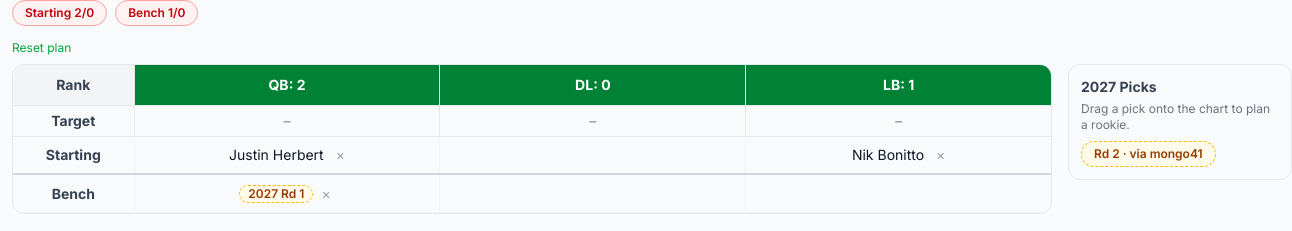
DepthChartTable › draft picks › returns a placed pick to the panel with its remove button
This screenshot has width=1292, height=231.
Step 1. Click the button named "Return 2027 Rd 1 to picks" → (326, 194), box [317,184,335,204]
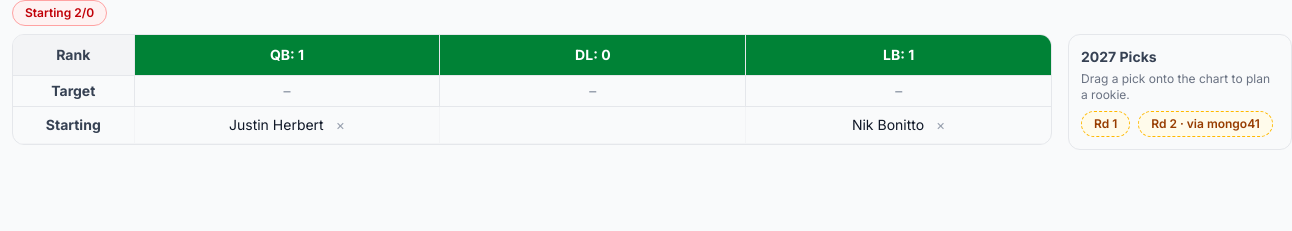
Expected: the button "2027 Rd 1" no longer shows "2027 Rd 1"
Expected: the element "2027 Picks" shows "Rd 1", [1094,116,1117,131]
